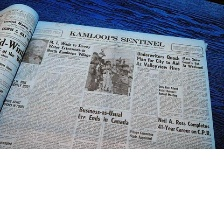news_paper: (0, 2, 217, 149)
